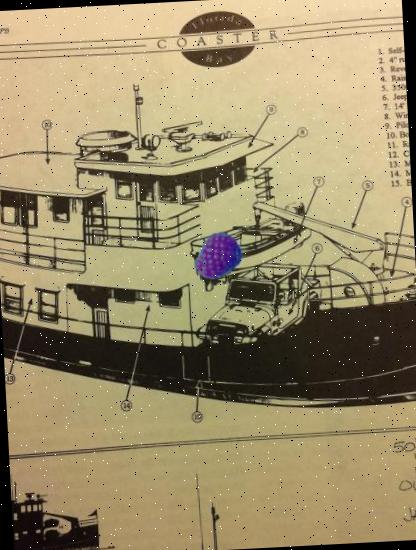Raspberry: (190, 228, 244, 282)
